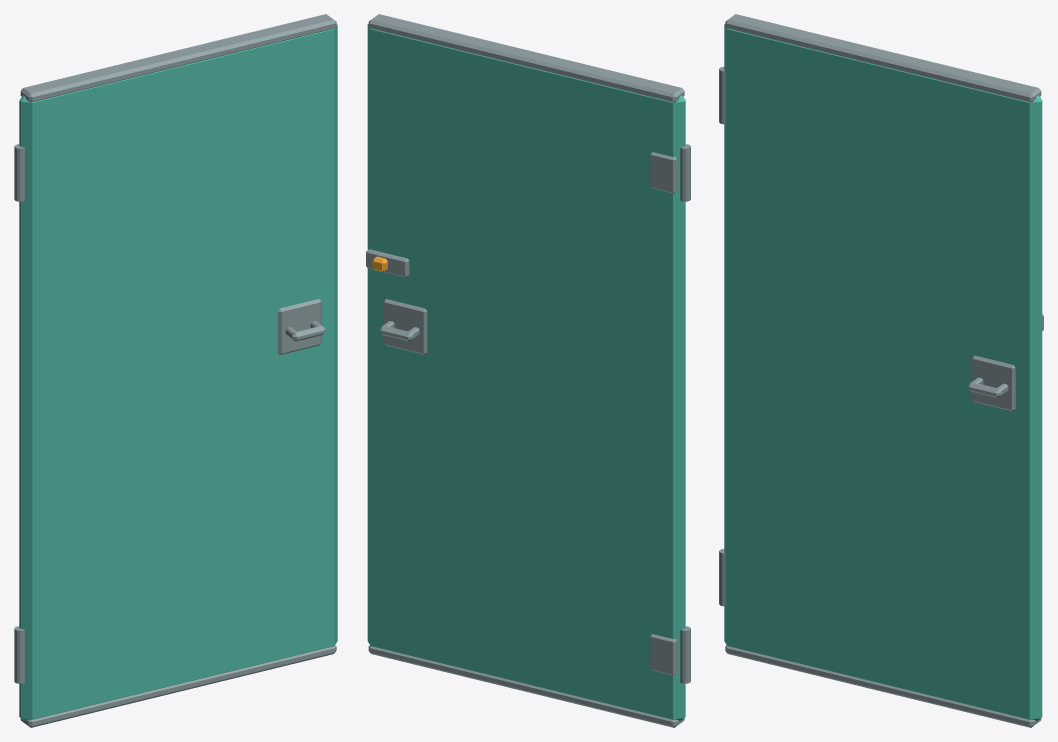
The model's file is Facilities-StallDoor.fbx.
The picture shows the model from 3 angles, left to right: view 1: azimuth 30°, elevation 25°; view 2: azimuth 150°, elevation 25°; view 3: azimuth 330°, elevation 25°; orthographic projection.
Visible parts, largest first — view 1: Door Leaf, Top Cap, Bottom Cap, Handle Backplate, Hinge Pin, Hinge Pin.001; view 2: Door Leaf, Top Cap, Bottom Cap, Handle Backplate.001, Moving Hinge Plate, Moving Hinge Plate.001, Inside Sliding Latch, Hinge Pin, Hinge Pin.001; view 3: Door Leaf, Top Cap, Bottom Cap, Handle Backplate.
Boxes of the visible parts, <box> form: Door Leaf: <box>19,24,337,721</box>; Top Cap: <box>20,14,336,102</box>; Bottom Cap: <box>20,645,336,727</box>; Handle Backplate: <box>277,299,321,354</box>; Hinge Pin: <box>14,626,24,683</box>; Hinge Pin.001: <box>14,144,24,201</box>; Door Leaf: <box>367,24,685,720</box>; Top Cap: <box>368,14,684,102</box>; Bottom Cap: <box>368,645,684,727</box>; Handle Backplate.001: <box>383,299,427,354</box>; Moving Hinge Plate: <box>650,634,676,675</box>; Moving Hinge Plate.001: <box>650,152,676,193</box>; Inside Sliding Latch: <box>366,249,409,277</box>; Hinge Pin: <box>680,626,690,683</box>; Hinge Pin.001: <box>680,144,690,201</box>; Door Leaf: <box>724,24,1042,721</box>; Top Cap: <box>725,14,1041,102</box>; Bottom Cap: <box>725,645,1041,727</box>; Handle Backplate: <box>971,355,1015,411</box>.
Size of the model in its own units: 0.864 by 1.63 by 0.154.
